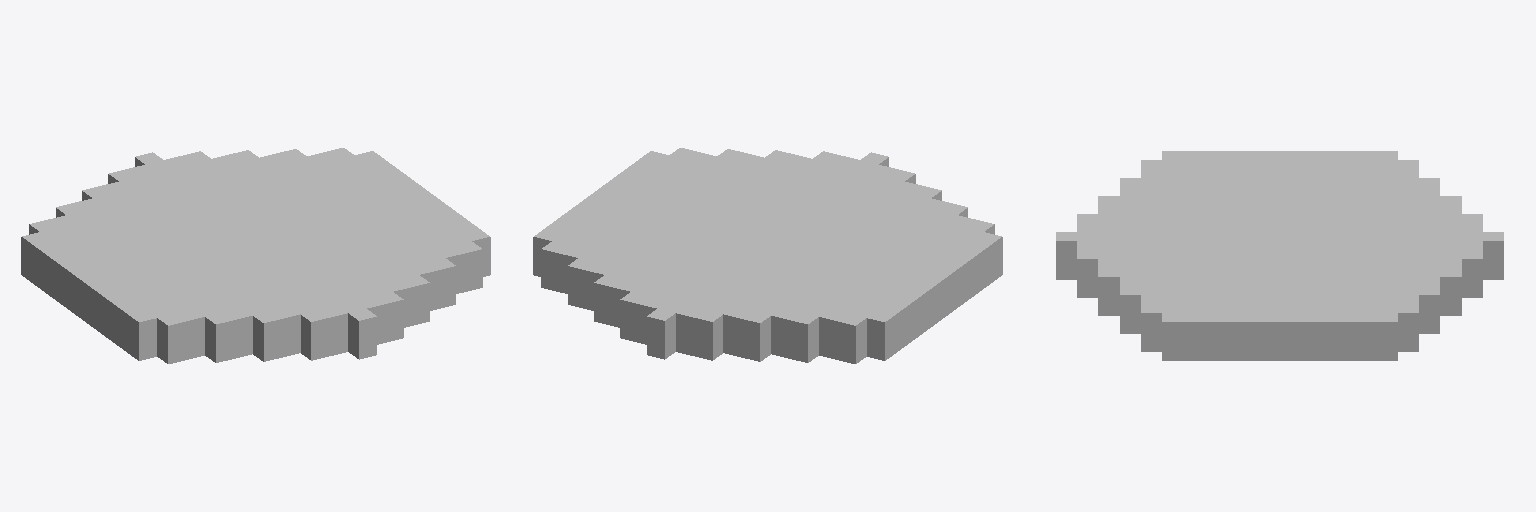
The model's file is hexes-0-stone.obj.
The picture shows the model from 3 angles: view 1: azimuth 30°, elevation 25°; view 2: azimuth 150°, elevation 25°; view 3: azimuth 270°, elevation 25°; orthographic projection.
Parts seen in each view (by area): view 1: stone; view 2: stone; view 3: stone.
Part boxes in pixels (bbox=[...]): stone: bbox=[21, 148, 490, 363]; stone: bbox=[533, 148, 1002, 363]; stone: bbox=[1056, 151, 1503, 360].
Size of the model in its own units: 1.9 by 0.2 by 2.1.